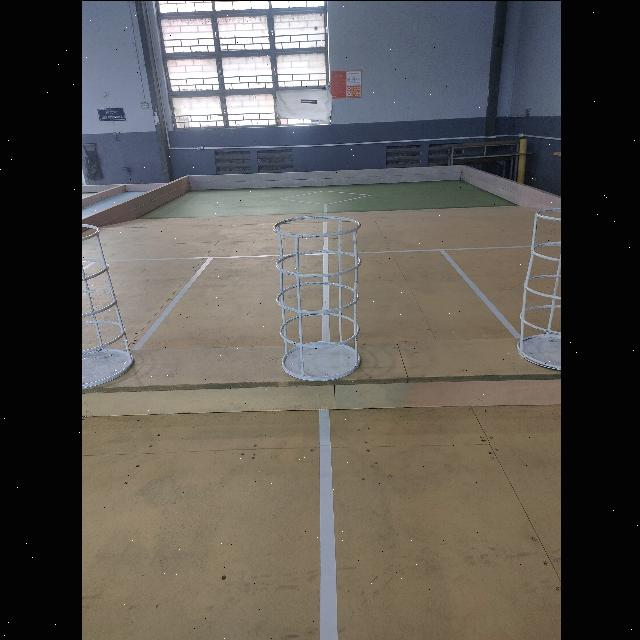S: (272, 214, 361, 381), (80, 225, 131, 391), (516, 209, 560, 369)
